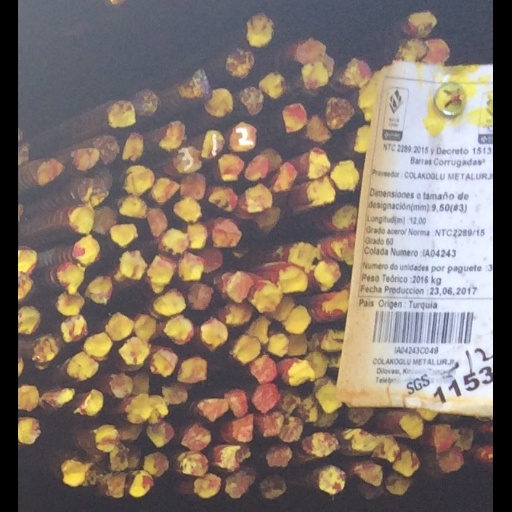dipstick: (245, 14, 279, 47), (417, 9, 452, 38), (322, 467, 357, 496), (56, 352, 88, 381), (291, 241, 328, 266), (378, 434, 411, 462), (311, 180, 346, 206), (350, 428, 385, 454), (320, 381, 350, 411), (352, 404, 388, 429), (219, 470, 255, 495), (212, 151, 241, 182), (242, 183, 273, 212), (168, 254, 199, 283), (259, 72, 291, 100), (339, 159, 367, 191), (113, 166, 145, 194), (157, 317, 190, 344), (330, 97, 360, 126), (229, 122, 258, 152), (223, 47, 254, 75), (299, 39, 335, 63), (202, 88, 234, 115), (202, 222, 238, 246), (284, 102, 310, 135), (306, 433, 345, 455), (75, 275, 103, 305), (436, 37, 467, 64), (54, 206, 85, 233), (228, 416, 259, 443), (348, 59, 381, 84), (274, 159, 299, 192), (446, 445, 479, 470), (301, 63, 335, 87), (212, 443, 249, 465), (254, 206, 282, 235), (317, 259, 346, 287), (197, 318, 225, 347), (310, 114, 337, 144), (231, 336, 261, 363), (110, 338, 140, 365), (173, 172, 204, 198), (46, 460, 77, 486), (408, 38, 440, 63), (279, 266, 311, 291), (16, 336, 41, 368), (191, 249, 224, 273), (138, 257, 166, 285), (411, 411, 439, 439), (67, 177, 96, 204), (176, 426, 210, 449), (96, 100, 126, 126), (324, 291, 354, 317), (222, 299, 252, 325), (237, 89, 268, 114), (206, 188, 237, 213), (137, 421, 168, 446), (193, 397, 228, 419), (396, 474, 428, 498), (170, 453, 208, 473), (147, 290, 180, 313), (184, 71, 212, 98), (170, 145, 198, 172), (81, 135, 108, 163), (446, 422, 473, 450), (43, 262, 71, 289), (59, 239, 88, 265), (253, 385, 282, 411), (404, 448, 433, 474), (143, 349, 172, 375), (155, 119, 180, 149), (135, 206, 160, 236), (336, 203, 366, 228), (97, 224, 131, 246), (360, 461, 391, 485), (173, 358, 204, 382), (71, 335, 106, 356), (108, 252, 135, 279), (254, 284, 281, 311), (286, 358, 313, 385), (122, 88, 150, 114), (285, 306, 313, 332), (116, 398, 144, 424), (94, 313, 123, 338), (268, 443, 299, 466), (187, 474, 219, 496), (250, 356, 277, 382), (138, 397, 164, 424), (181, 282, 208, 308), (337, 235, 366, 259), (259, 474, 288, 498), (118, 472, 147, 496), (153, 229, 183, 252), (154, 383, 184, 406), (83, 207, 108, 234), (143, 179, 170, 204), (245, 153, 270, 180), (45, 290, 72, 315), (166, 201, 201, 220), (23, 392, 62, 409), (57, 146, 88, 167), (224, 273, 249, 299), (284, 330, 310, 355), (270, 294, 297, 318), (249, 315, 273, 342), (221, 389, 248, 413), (80, 427, 108, 450), (49, 315, 72, 343), (108, 198, 137, 220), (312, 149, 336, 175), (310, 353, 334, 379), (323, 329, 349, 353), (281, 417, 305, 443), (277, 392, 306, 413), (0, 416, 21, 445), (262, 411, 286, 436), (69, 392, 94, 416), (0, 305, 20, 335), (197, 129, 220, 155), (18, 160, 44, 183), (263, 334, 289, 357), (303, 398, 328, 421), (137, 453, 160, 477), (0, 246, 19, 275), (93, 472, 115, 496), (123, 317, 148, 338), (115, 132, 134, 159), (106, 424, 136, 441), (2, 384, 20, 412), (99, 373, 121, 395), (180, 223, 201, 246), (98, 445, 118, 469), (0, 272, 16, 299), (119, 444, 135, 470), (124, 372, 140, 393)
